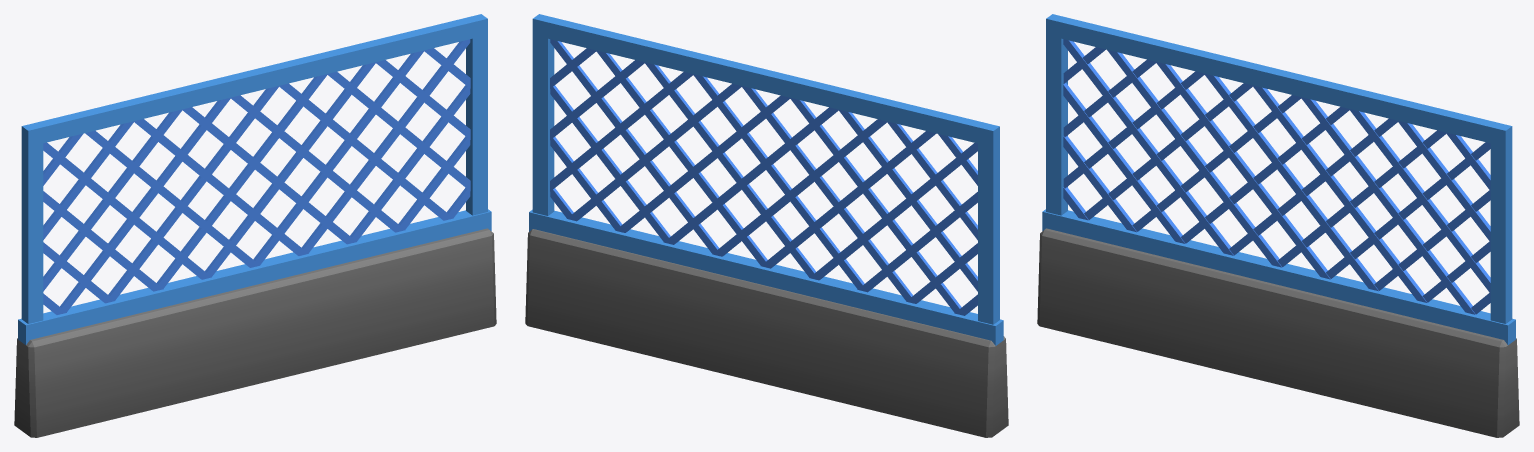
File: Fence_1_G_6.fbx
3 renders of one model, left to right at view 1: azimuth 30°, elevation 25°; view 2: azimuth 150°, elevation 25°; view 3: azimuth 330°, elevation 25°, orthographic.
Visible parts, largest first — view 1: Fence_1_G_6; view 2: Fence_1_G_6; view 3: Fence_1_G_6.
Part boxes in pixels (x1,y1,x2,y2): Fence_1_G_6: (14, 14, 496, 437); Fence_1_G_6: (525, 14, 1008, 437); Fence_1_G_6: (1037, 14, 1519, 437).
Size of the model in its own units: 400 by 248 by 30.52.
